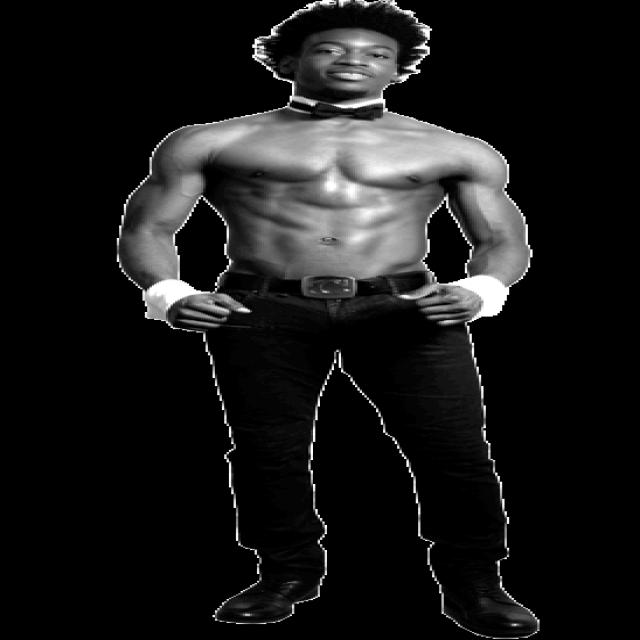human: (91, 11, 543, 636)
